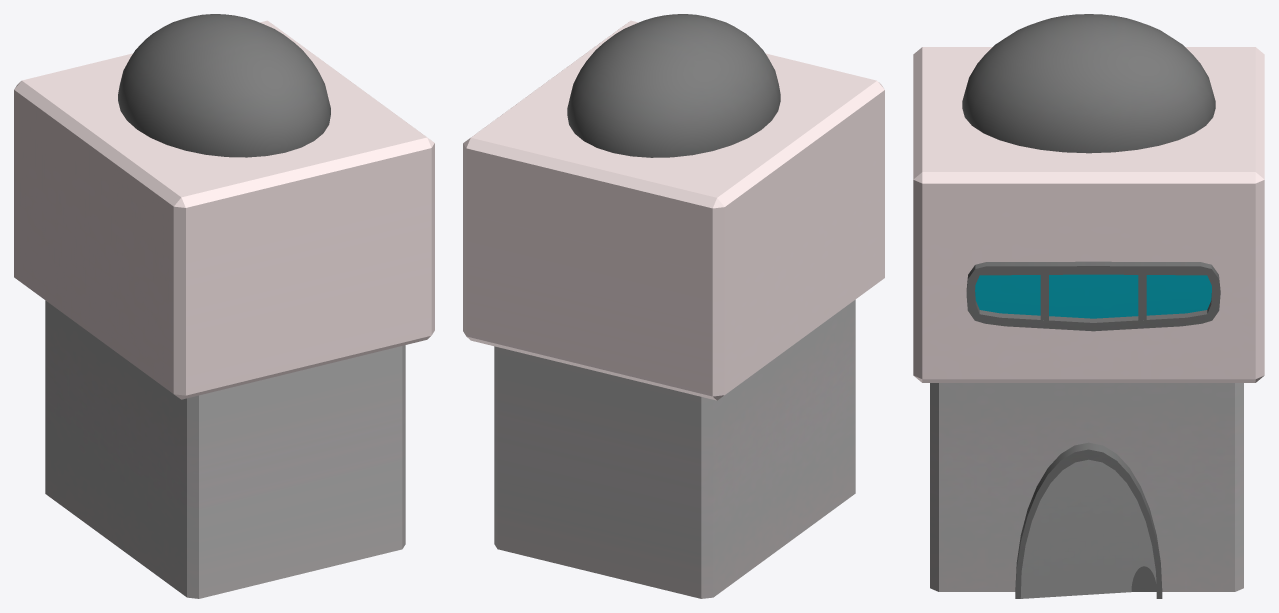
Rendered from casa 5.fbx.
The picture shows the model from 3 angles, left to right: view 1: azimuth 30°, elevation 25°; view 2: azimuth 150°, elevation 25°; view 3: azimuth 270°, elevation 25°; orthographic projection. The views are drawn at different scales.
Parts seen in each view (by area): view 1: Cube.002, Cube.008; view 2: Cube.002, Cube.008; view 3: Cube.002, Cube.008, Cube.004.
Boxes of the visible parts, box(x1,y1,x2,y2) form: Cube.002: box(14, 14, 434, 399); Cube.008: box(45, 300, 405, 598); Cube.002: box(463, 14, 884, 400); Cube.008: box(494, 299, 855, 598); Cube.002: box(913, 14, 1264, 598); Cube.008: box(930, 383, 1243, 591); Cube.004: box(1131, 566, 1156, 591).
Size of the model in its own units: 995 by 1729 by 1077.
1 material, 1 textured.
